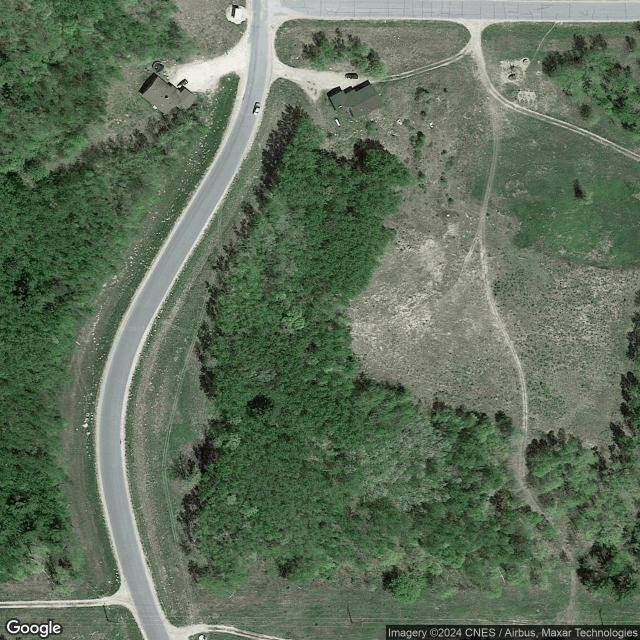Propane: (334, 117, 342, 127)
